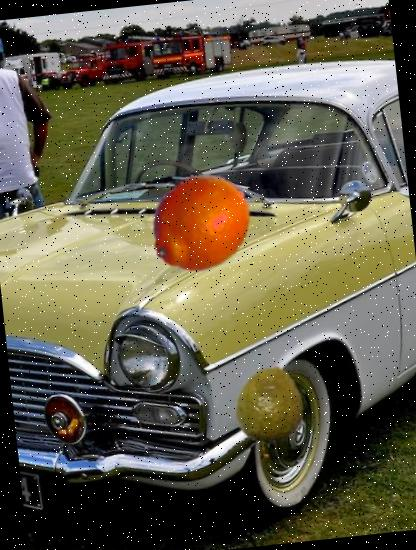Guava: (228, 362, 312, 446)
Tangelo: (139, 162, 258, 281)
